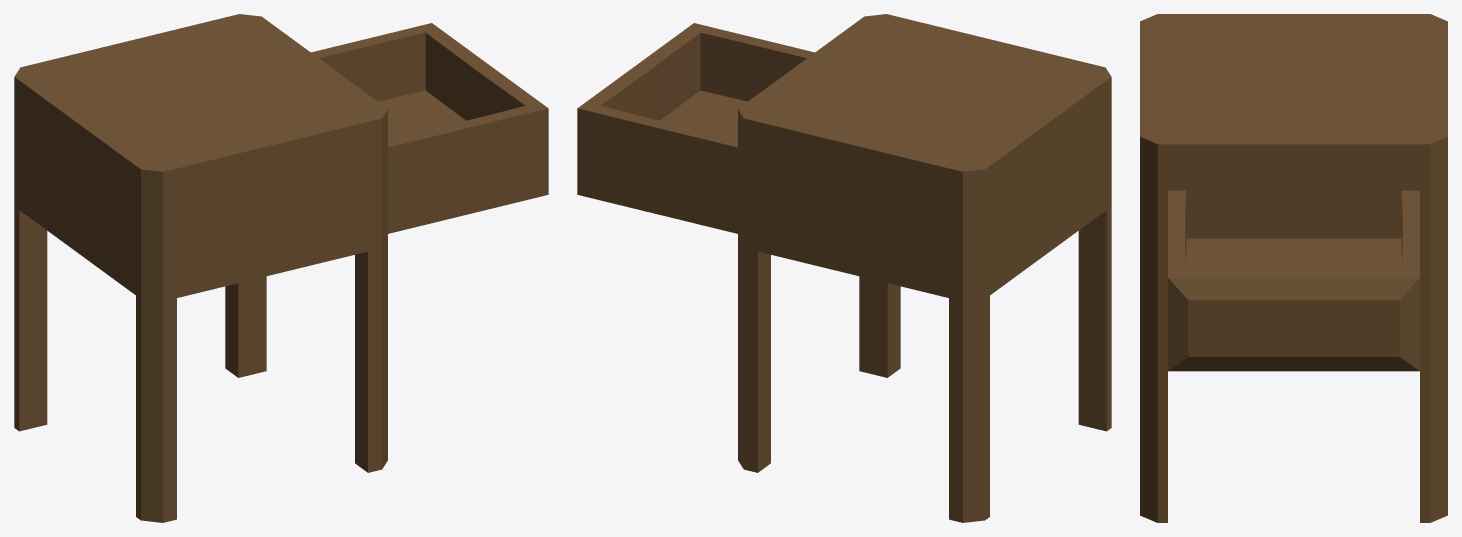
Rendered from MesaDeCabiceira.fbx.
The picture shows the model from 3 angles, left to right: view 1: azimuth 30°, elevation 25°; view 2: azimuth 150°, elevation 25°; view 3: azimuth 270°, elevation 25°; orthographic projection. The views are drawn at different scales.
Visible parts, largest first — view 1: Cube; view 2: Cube; view 3: Cube.
Part boxes in pixels (x1,y1,x2,y2): Cube: [14, 14, 548, 522]; Cube: [577, 14, 1111, 522]; Cube: [1140, 14, 1447, 522].
Bounding box in the file's own units: 128 × 102 × 75.15.
